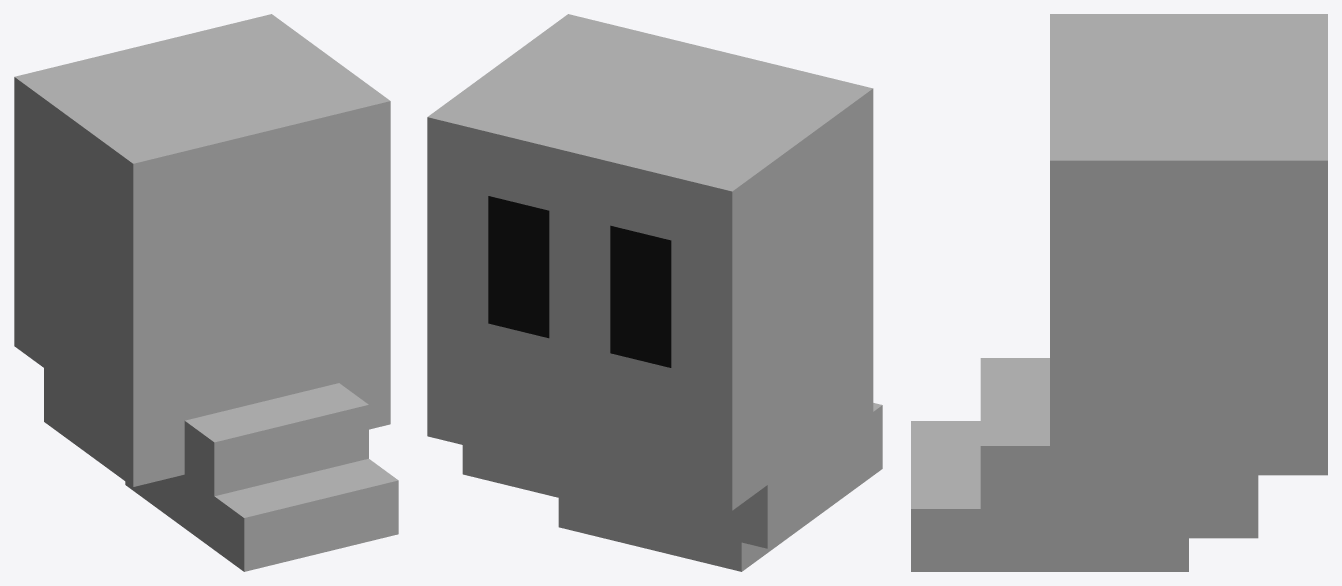
Rendered from Ghost.obj.
3 renders of one model, left to right at view 1: azimuth 30°, elevation 25°; view 2: azimuth 150°, elevation 25°; view 3: azimuth 270°, elevation 25°, orthographic. The views are drawn at different scales.
Size of the model in its own units: 0.5 by 0.7 by 0.6.
1 material, 1 textured.
